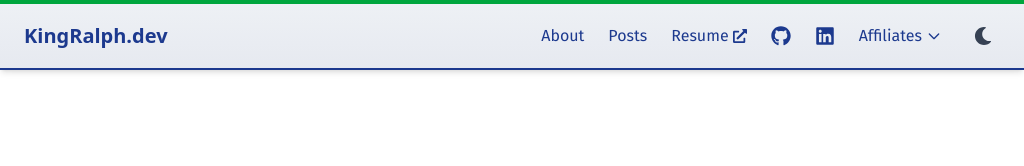
Test: Navbar Component › Affiliates Dropdown › opens dropdown when clicking affiliates button
The image size is (1024, 166).
Click the button with test id "desktop-affiliates-button": point(900, 36) 859,24 -> 942,48
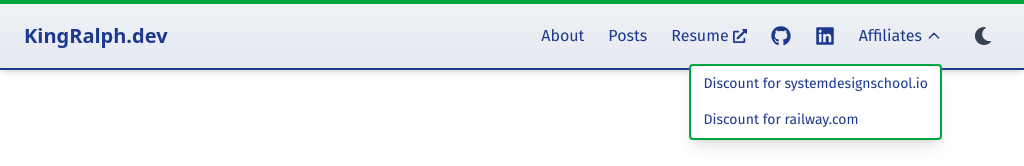
expect the menu named "Affiliates dropdown" is shown: met, box 690,64 -> 942,140
expect the button with test id "desktop-affiliates-button" is expanded: met, box 859,24 -> 942,48
